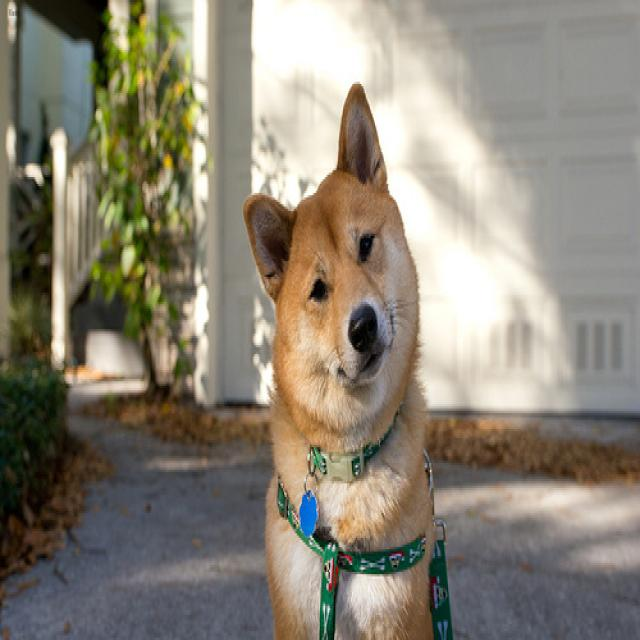dog-shiba_inu: (236, 70, 439, 635)
